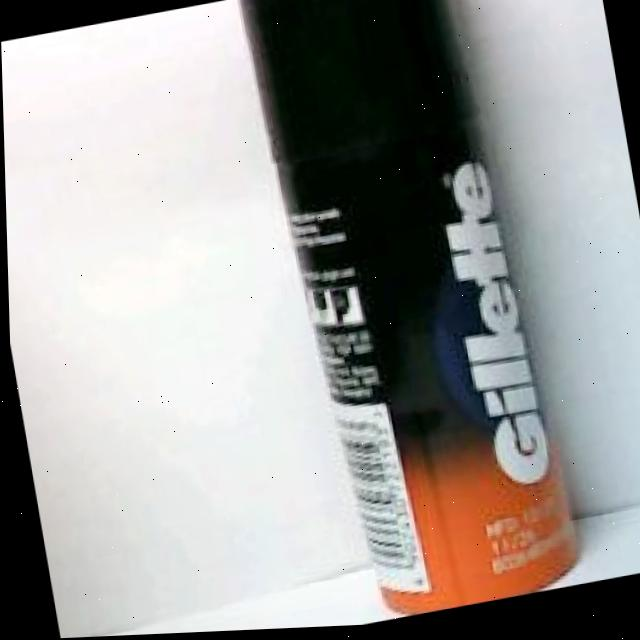gillette-foam: (238, 0, 579, 621)
